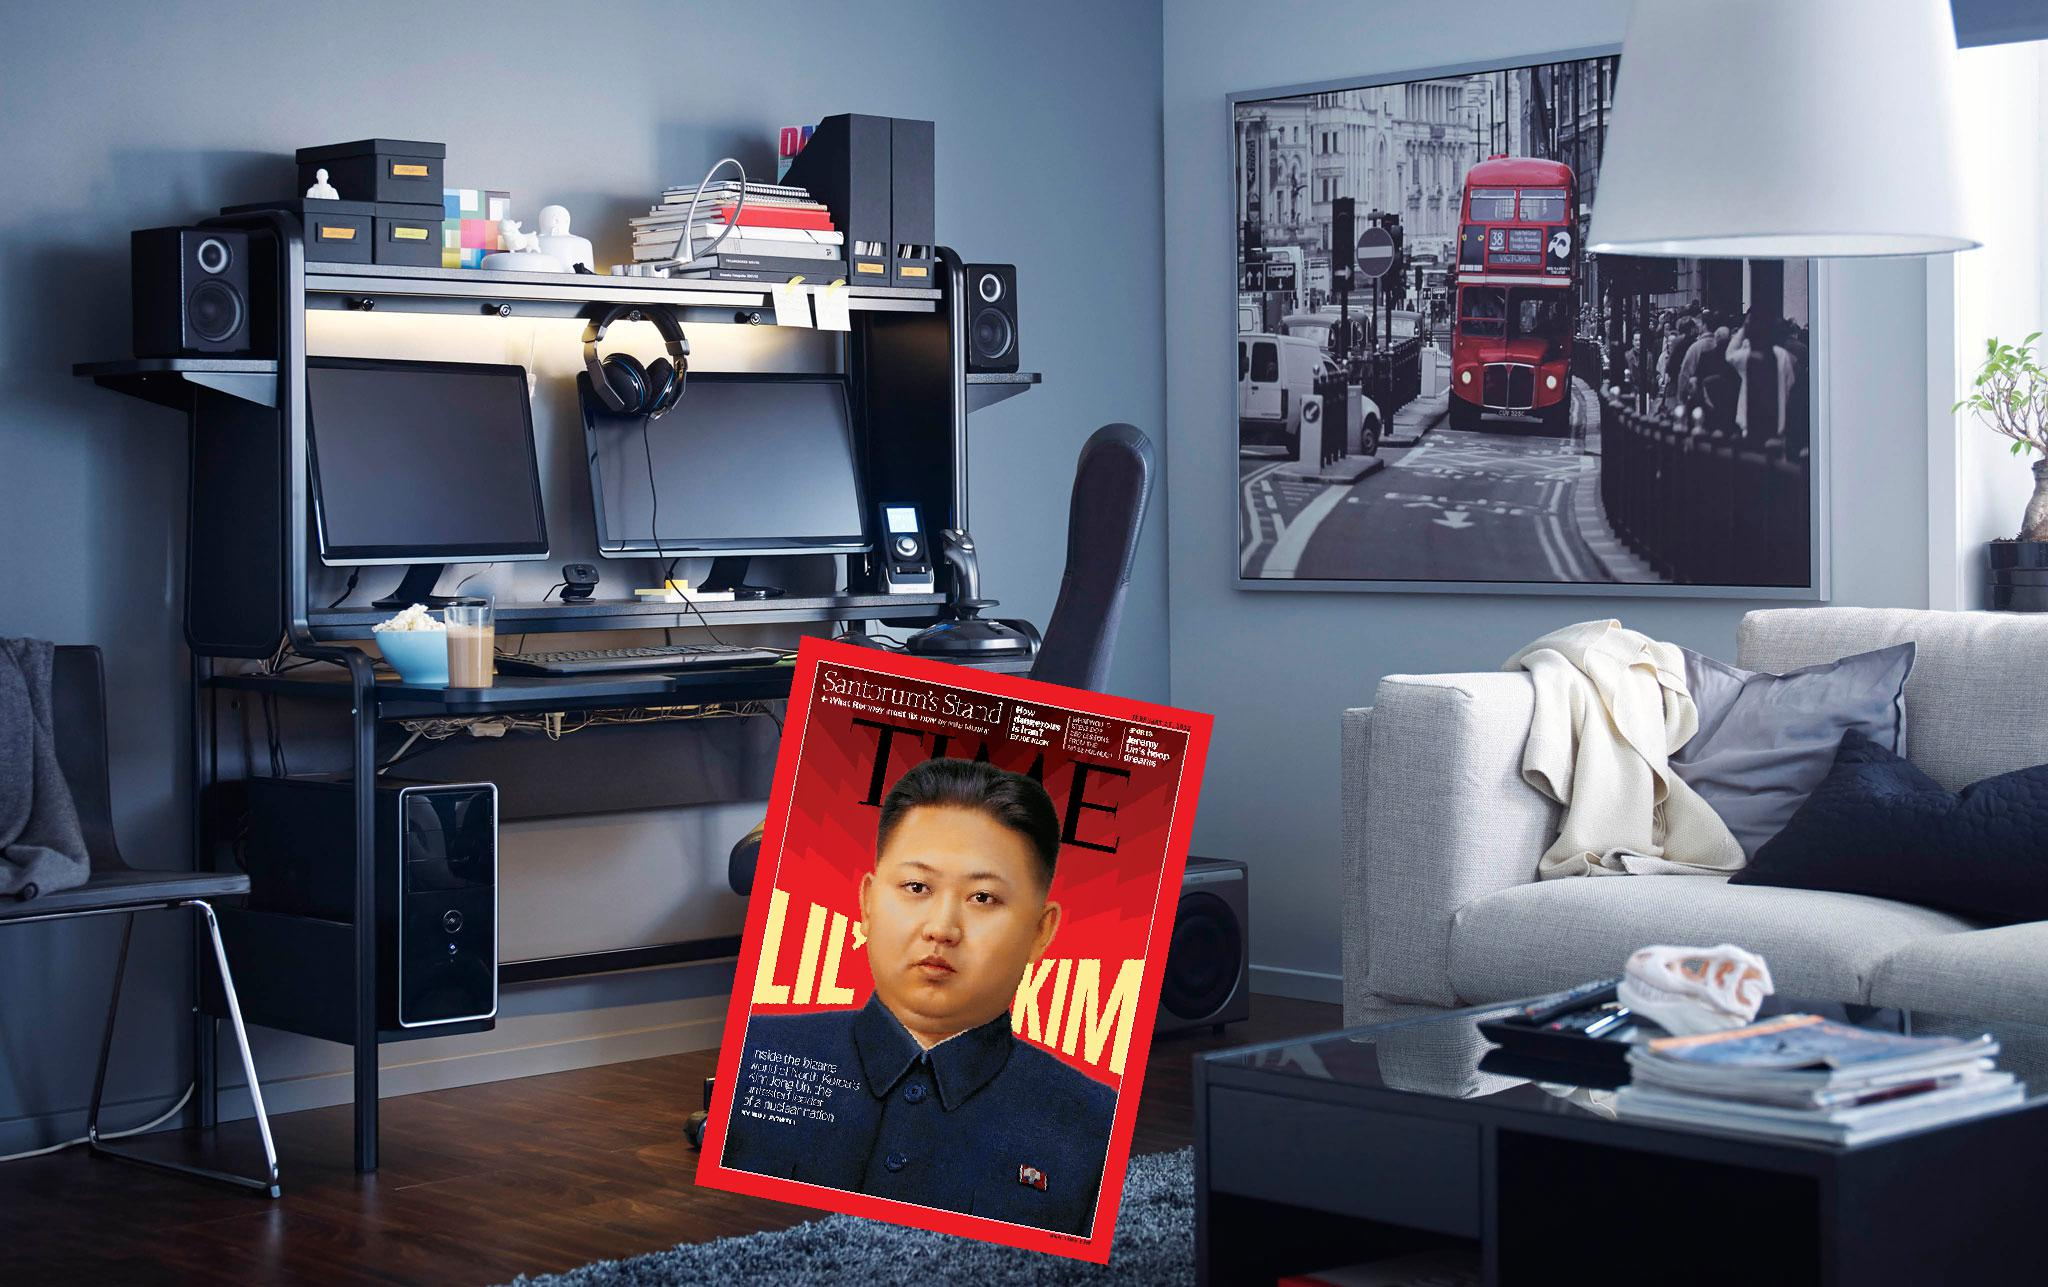times: (692, 635, 1220, 1268)
